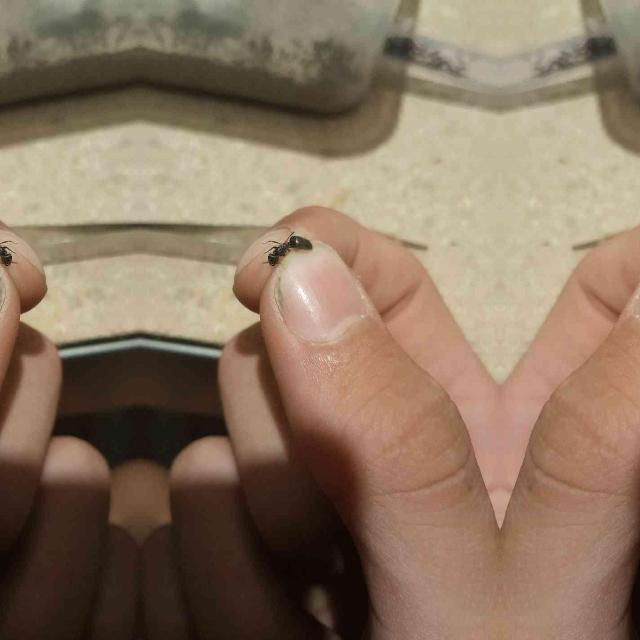Lasius: (258, 232, 316, 266), (0, 230, 20, 266)
